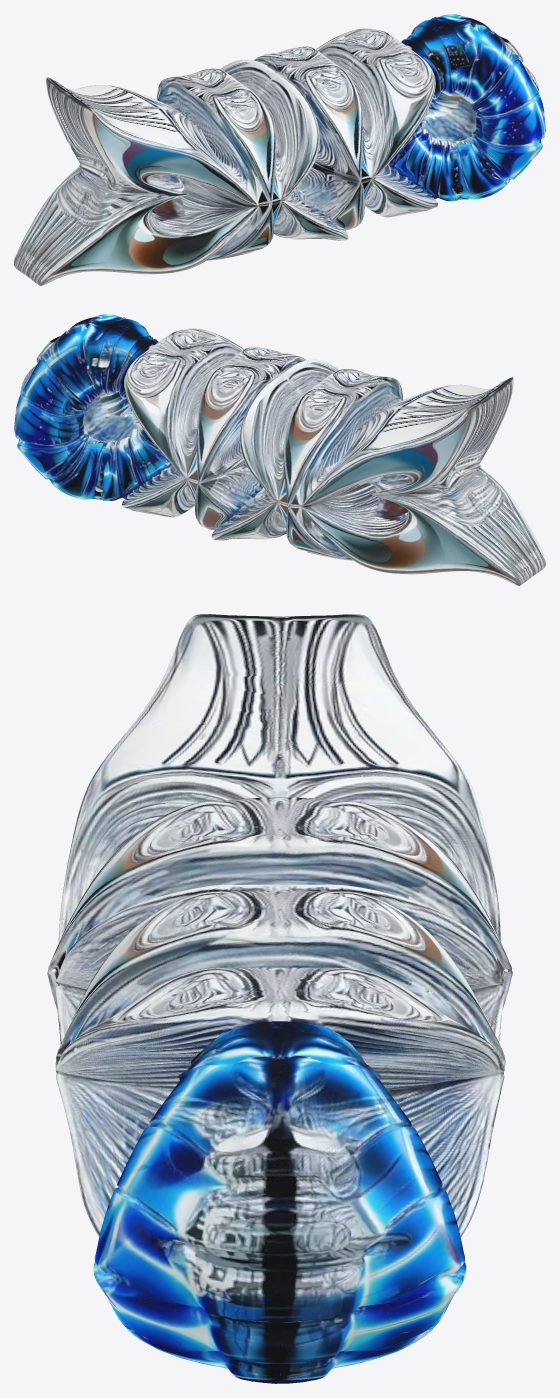
Rendered from ekko-mark.glb.
3 renders of one model, top to bottom at view 1: azimuth 30°, elevation 25°; view 2: azimuth 150°, elevation 25°; view 3: azimuth 270°, elevation 25°, orthographic. The views are drawn at different scales.
Bounding box in the file's own units: 1.9 × 0.6994 × 0.7687.
Materials: 1 (1 with a texture image).
